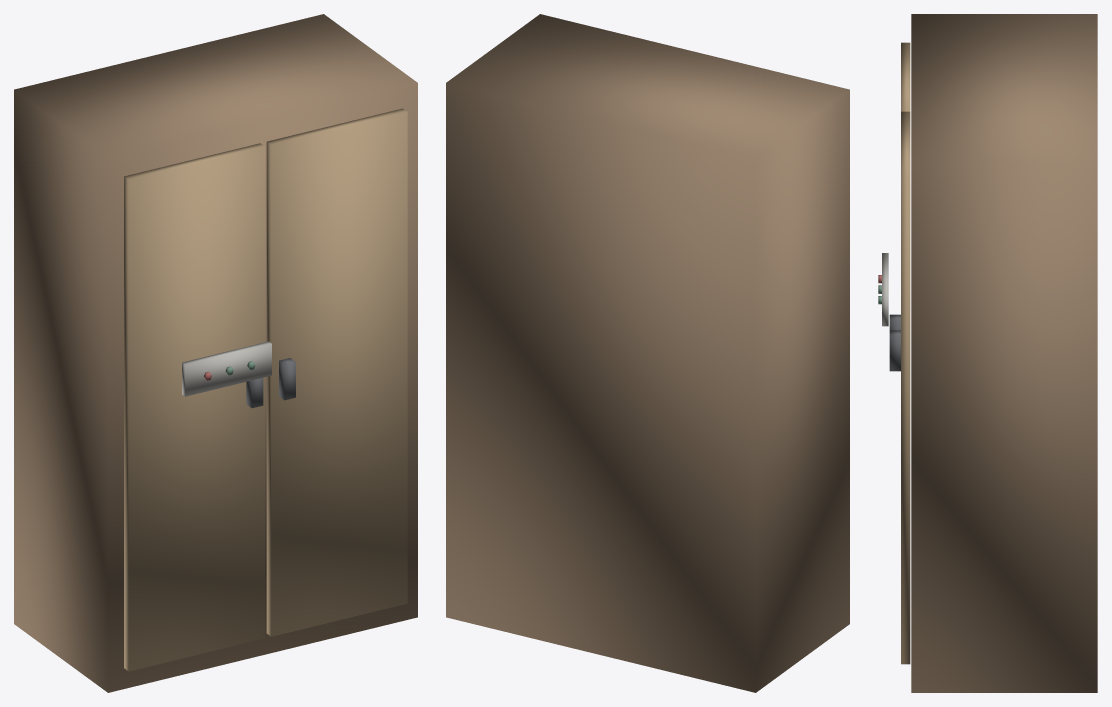
File: lab_reagent_cabinet__tall.glb
The picture shows the model from 3 angles, left to right: view 1: azimuth 30°, elevation 25°; view 2: azimuth 150°, elevation 25°; view 3: azimuth 270°, elevation 25°; orthographic projection.
Parts seen in each view (by area): view 1: world; view 2: world; view 3: world.
Part boxes in pixels (<box>): world: <box>14,14,417,692</box>; world: <box>446,14,849,692</box>; world: <box>878,14,1097,692</box>.
Bounding box in the file's own units: 0.95 × 1.57 × 0.5885.
